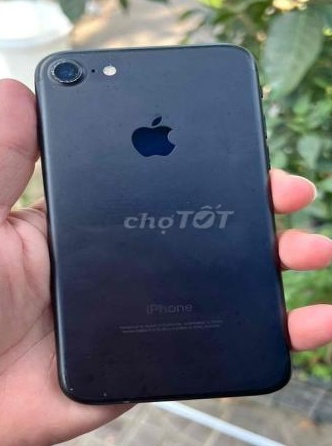scratch: (62, 386, 136, 405), (48, 59, 90, 88), (125, 46, 240, 51), (245, 171, 260, 195), (114, 118, 126, 126)
